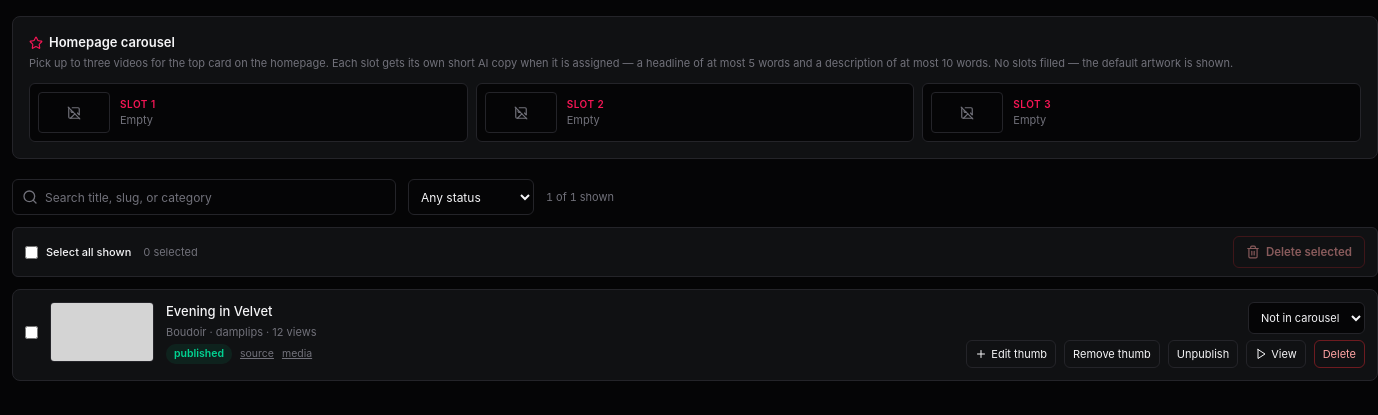
Scenario: VideoManager › removes a thumbnail after confirmation
This screenshot has width=1378, height=415.
Click the button "Remove thumb": [1112, 354] box [1064,340,1160,368]
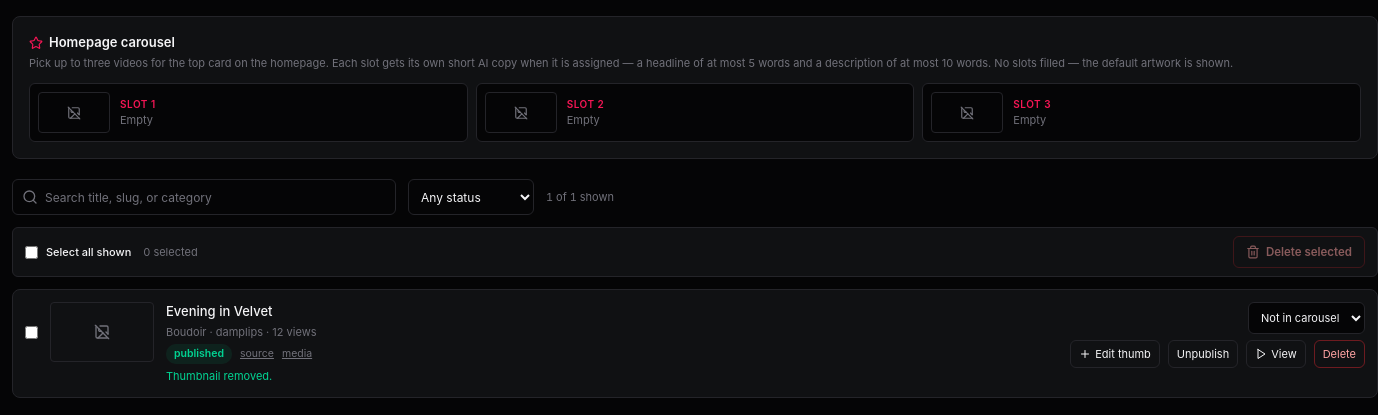
Now the text "Thumbnail removed." is shown, box [166,369,272,383]
